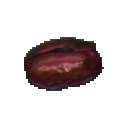ng: (20, 31, 109, 97)
